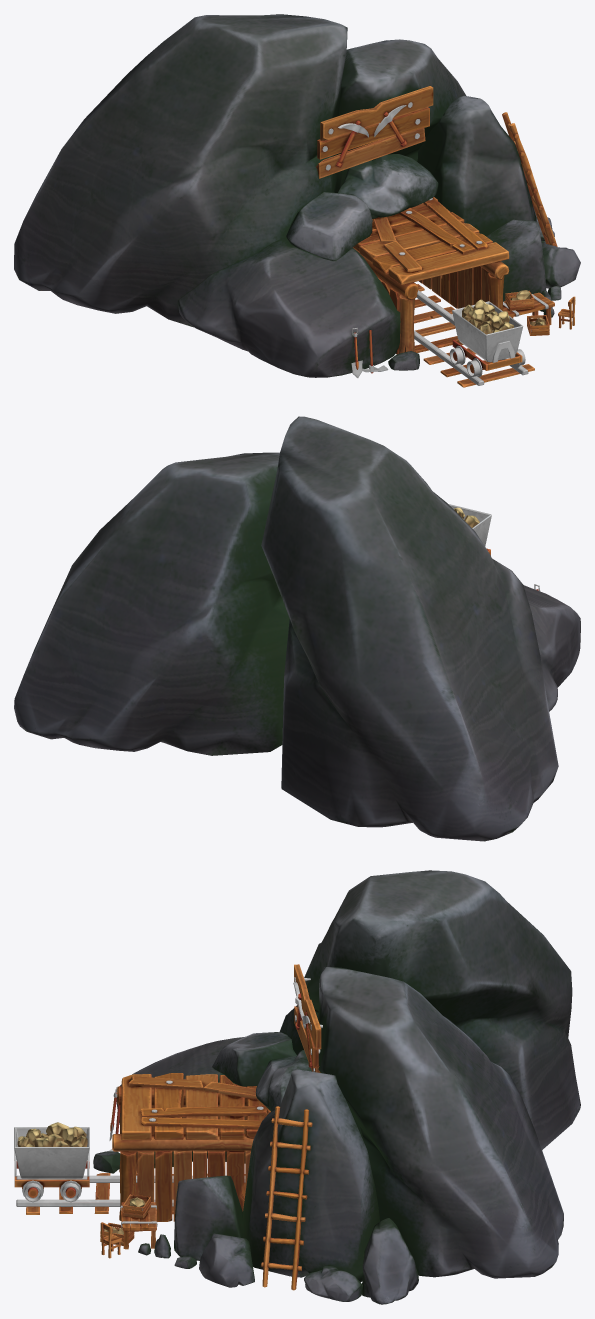
The model's file is stylized_gold_mine.glb.
3 renders of one model, top to bottom at view 1: azimuth 30°, elevation 25°; view 2: azimuth 150°, elevation 25°; view 3: azimuth 270°, elevation 25°, orthographic. The views are drawn at different scales.
Visible parts, largest first — view 1: Rocks, Wood, Gold; view 2: Rocks, Wood; view 3: Rocks, Wood, Gold.
Part boxes in pixels (x1,y1,x2,y2): Rocks: [14, 14, 580, 377]; Wood: [316, 86, 575, 387]; Gold: [462, 290, 545, 334]; Rocks: [14, 416, 580, 841]; Wood: [448, 504, 540, 591]; Rocks: [93, 870, 580, 1304]; Wood: [14, 964, 322, 1290]; Gold: [17, 1122, 145, 1241].
Size of the model in its own units: 29.58 by 15.54 by 28.3.
1 material, 1 textured.
